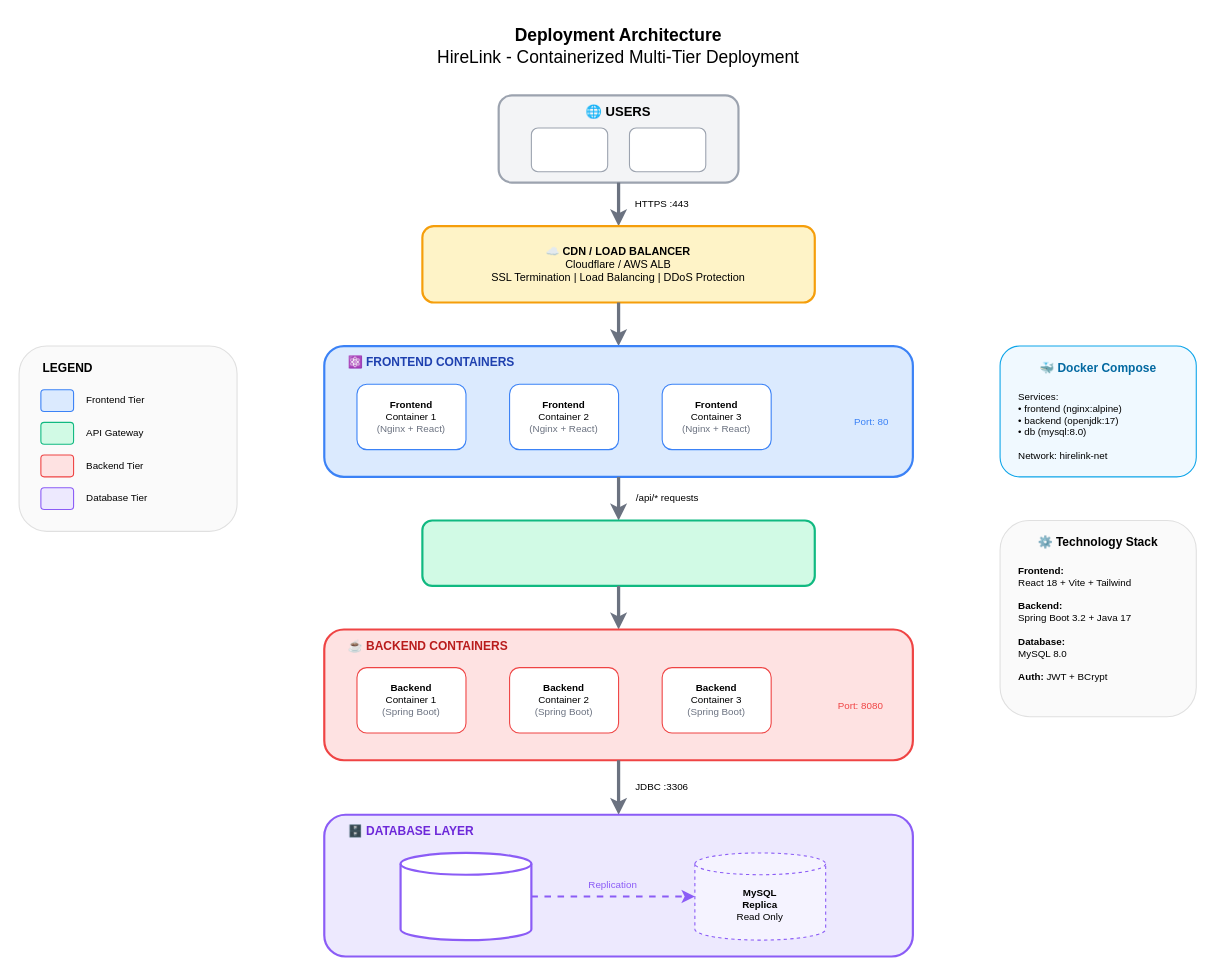
This 1215x976 diagram has some shape labels left out. Each missing label, with the box of its shape:
MySQL Primary Read/Write: (399, 851, 532, 941)
👤 Browser: (530, 127, 608, 172)
📱 Mobile: (628, 127, 706, 172)
🔀 API GATEWAY (NGINX) Reverse Proxy | Rate Limiting | Request Routing: (421, 519, 815, 586)
